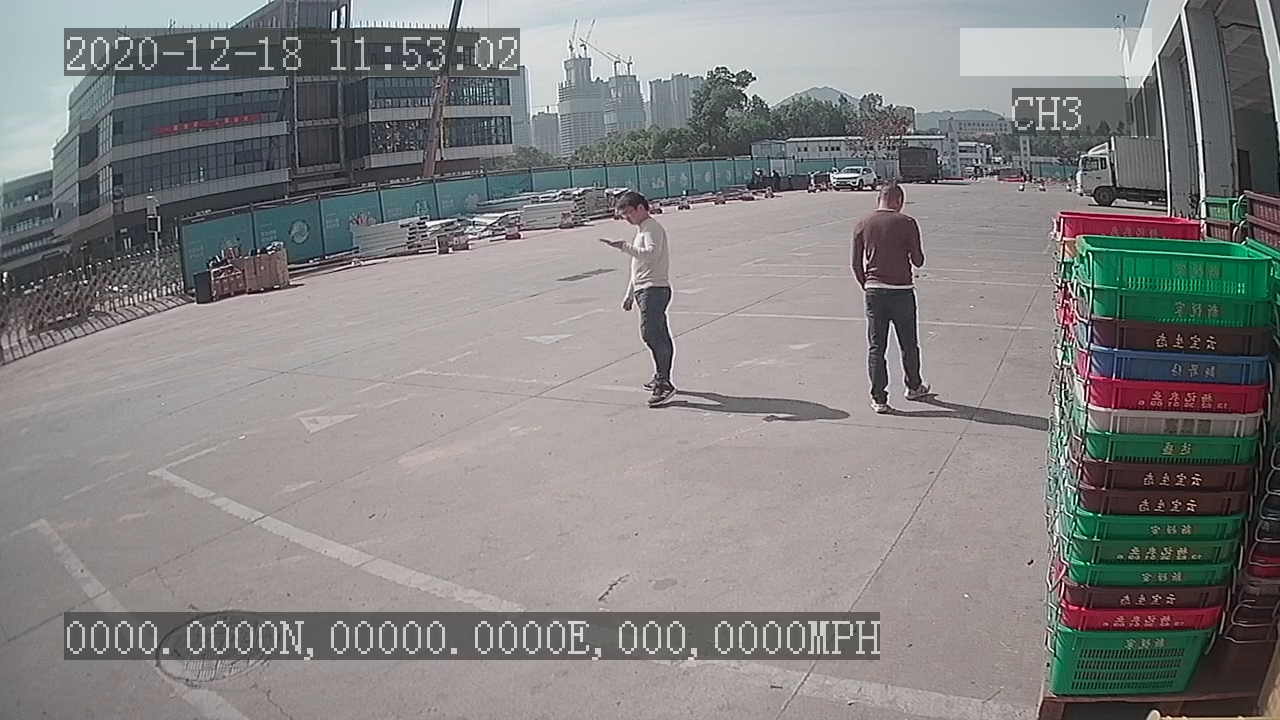person: (840, 174, 940, 417), (597, 179, 693, 413)
